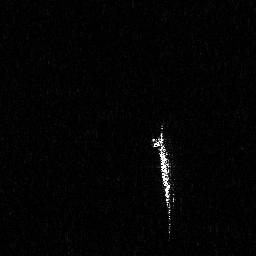ship: (150, 121, 178, 245)
